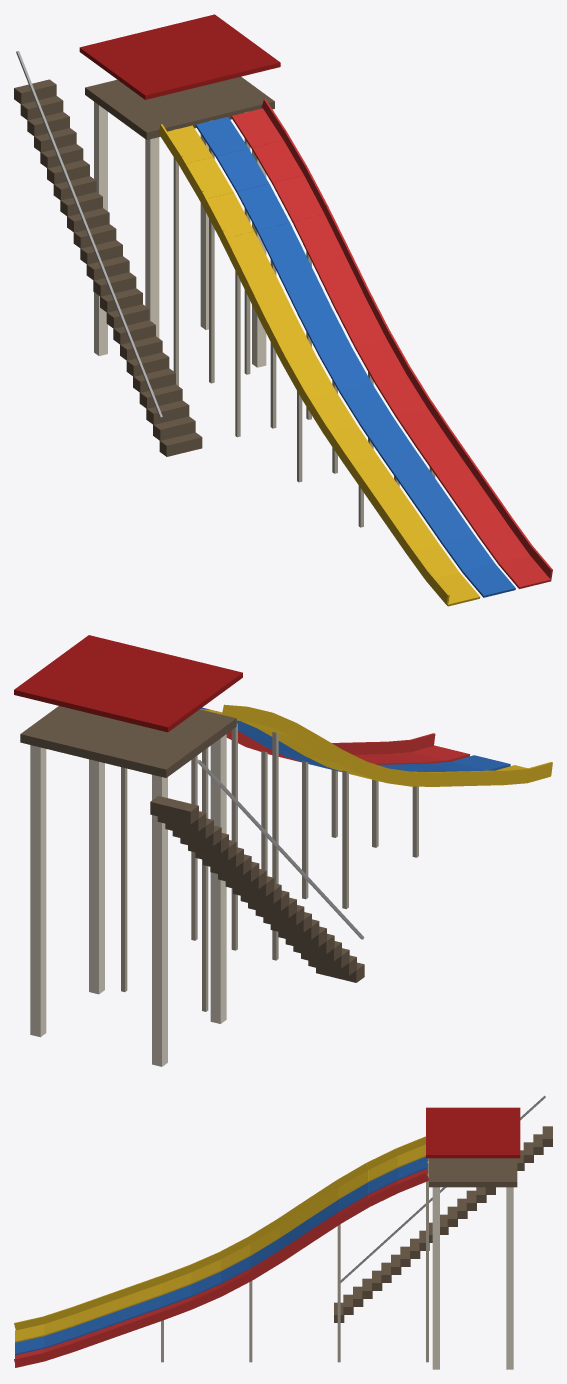
Rendered from toboga.glb.
3 renders of one model, top to bottom at view 1: azimuth 30°, elevation 25°; view 2: azimuth 150°, elevation 25°; view 3: azimuth 270°, elevation 25°, orthographic. The views are drawn at different scales.
Parts seen in each view (by area): view 1: obj_650; view 2: obj_650; view 3: obj_650.
Part boxes in pixels (bbox=[...]): obj_650: bbox=[14, 14, 552, 606]; obj_650: bbox=[14, 635, 552, 1066]; obj_650: bbox=[14, 1095, 552, 1369].
Bounding box in the file's own units: 5.08 × 8.19 × 18.3.
Materials: 1 (1 with a texture image).
